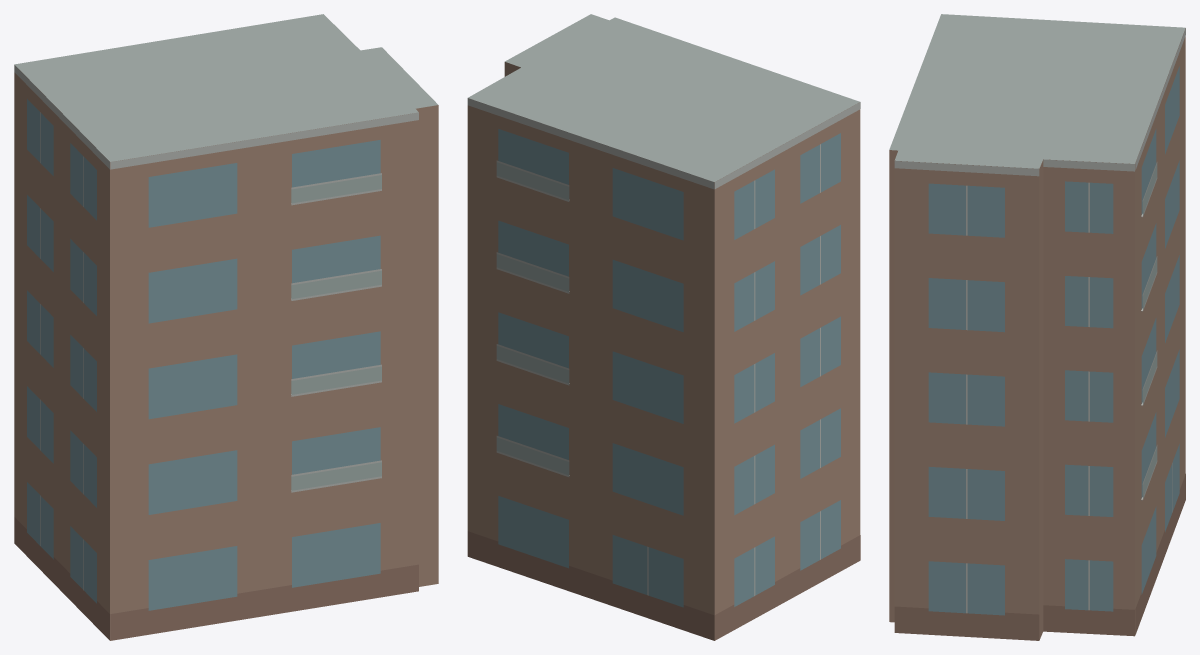
The model's file is survey-upis-32493203.glb.
3 renders of one model, left to right at view 1: azimuth 30°, elevation 25°; view 2: azimuth 150°, elevation 25°; view 3: azimuth 270°, elevation 25°, orthographic. The views are drawn at different scales.
Parts seen in each view (by area): view 1: survey-upis-32493203.tmp; view 2: survey-upis-32493203.tmp; view 3: survey-upis-32493203.tmp.
Boxes of the visible parts, bbox=[...] form: survey-upis-32493203.tmp: bbox=[14, 14, 438, 640]; survey-upis-32493203.tmp: bbox=[467, 14, 860, 640]; survey-upis-32493203.tmp: bbox=[889, 14, 1185, 640].
Size of the model in its own units: 10.77 by 15.3 by 8.72.
